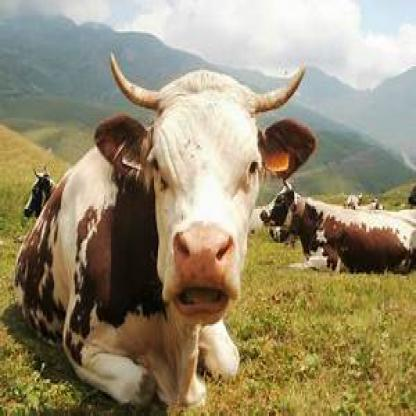cow: (15, 46, 318, 410)
